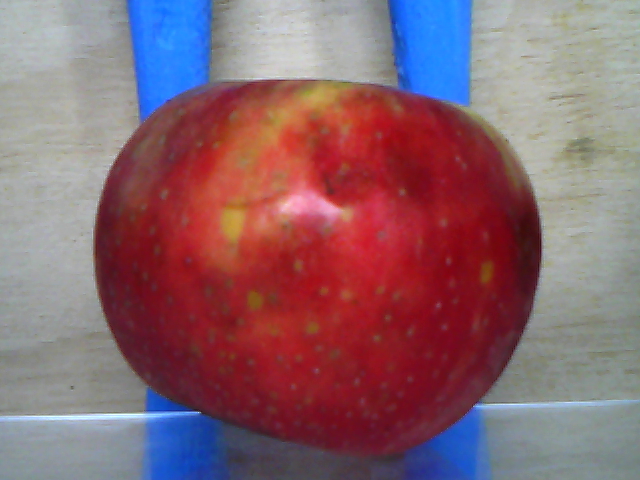bruise: (315, 134, 378, 211), (381, 136, 436, 210)
